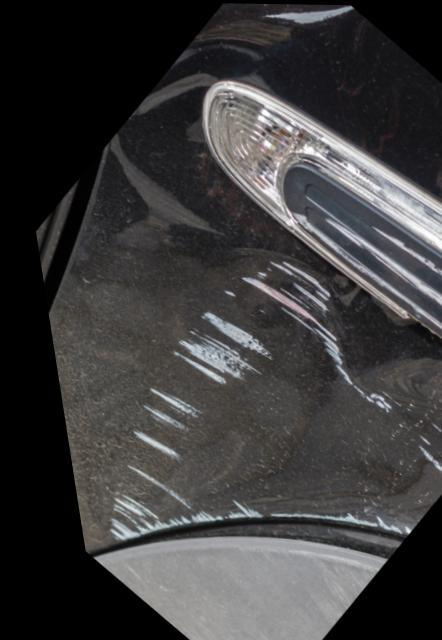scratch: (84, 259, 387, 542), (285, 210, 442, 347)
